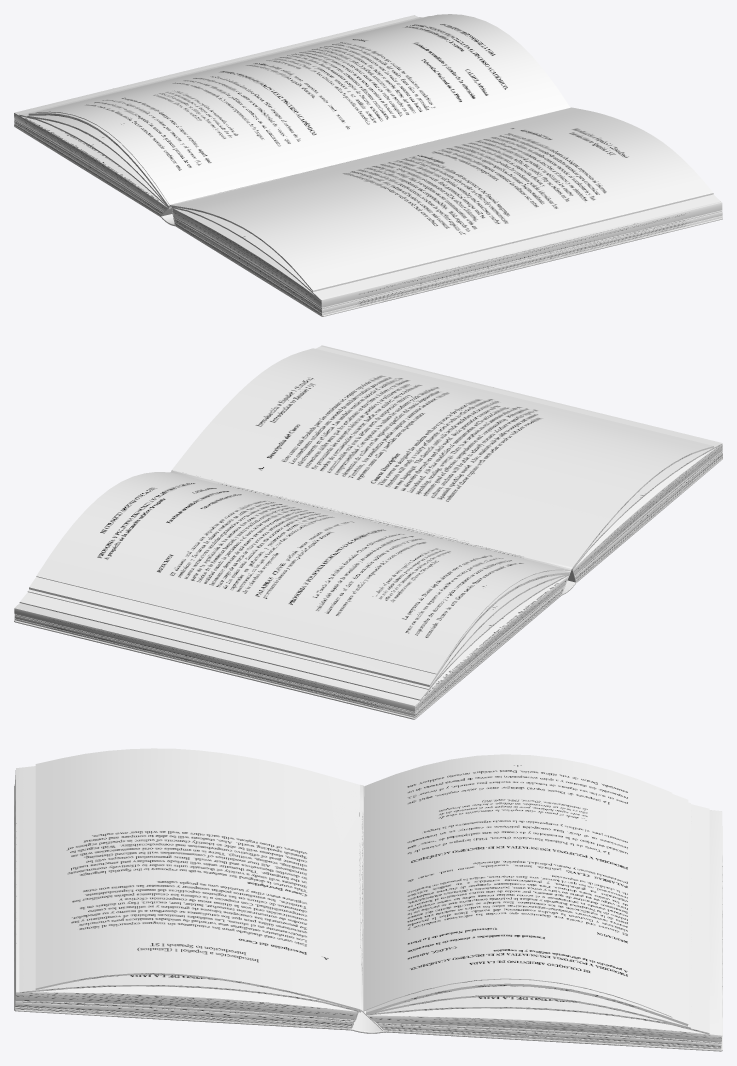
The model's file is book_3.glb.
The picture shows the model from 3 angles, top to bottom: view 1: azimuth 30°, elevation 25°; view 2: azimuth 150°, elevation 25°; view 3: azimuth 270°, elevation 25°; orthographic projection. The views are drawn at different scales.
Parts seen in each view (by area): view 1: Open-Book001; view 2: Open-Book001; view 3: Open-Book001.
Boxes of the visible parts, box(x1,y1,x2,y2) form: Open-Book001: box(14, 14, 722, 316); Open-Book001: box(14, 345, 722, 719); Open-Book001: box(14, 748, 722, 1051).
Bounding box in the file's own units: 3.88 × 0.6332 × 5.17.
3 materials, 3 textured.
